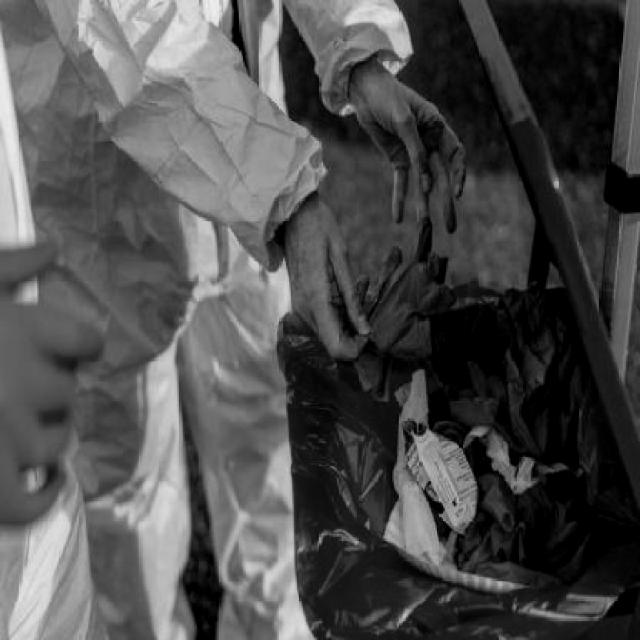hand_glove: (0, 237, 125, 532)
hand_noglove: (352, 61, 470, 228), (278, 197, 372, 360)
